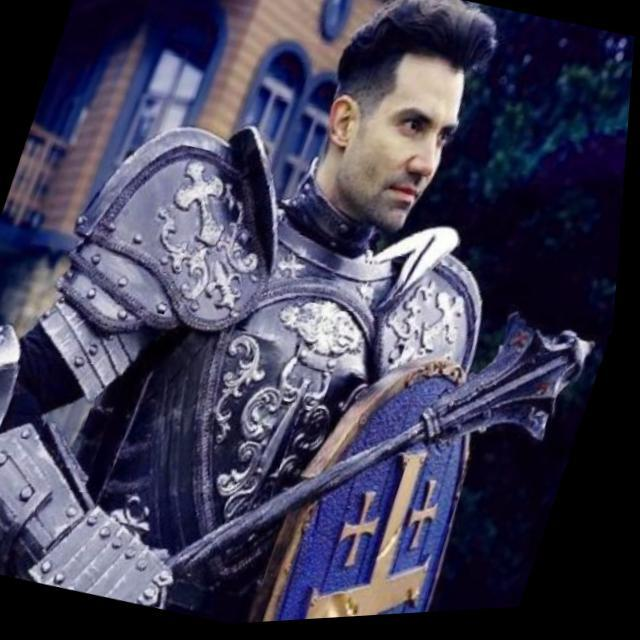weapon: (158, 245, 611, 631)
